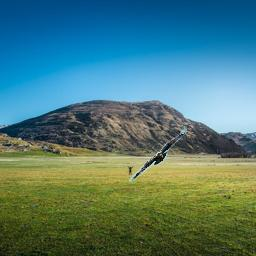Crow: (128, 126, 188, 182)
